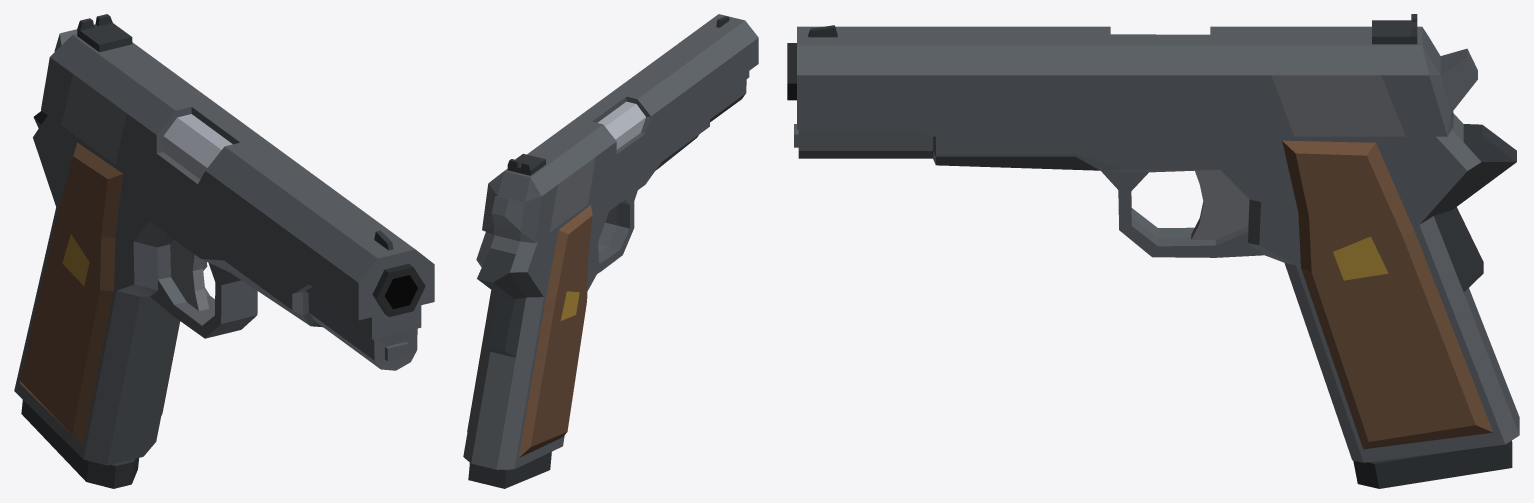
Rendered from pistol.glb.
The picture shows the model from 3 angles, left to right: view 1: azimuth 30°, elevation 25°; view 2: azimuth 150°, elevation 25°; view 3: azimuth 270°, elevation 25°; orthographic projection. The views are drawn at different scales.
Visible parts, largest first — view 1: SM_Wep_PistolBandit_01; view 2: SM_Wep_PistolBandit_01; view 3: SM_Wep_PistolBandit_01.
Boxes of the visible parts, x1,y1,x2,y2 form: SM_Wep_PistolBandit_01: [14, 14, 434, 488]; SM_Wep_PistolBandit_01: [463, 14, 758, 488]; SM_Wep_PistolBandit_01: [787, 14, 1519, 488].
Bounding box in the file's own units: 0.0429 × 0.2028 × 0.2935.
Materials: 1 (1 with a texture image).
